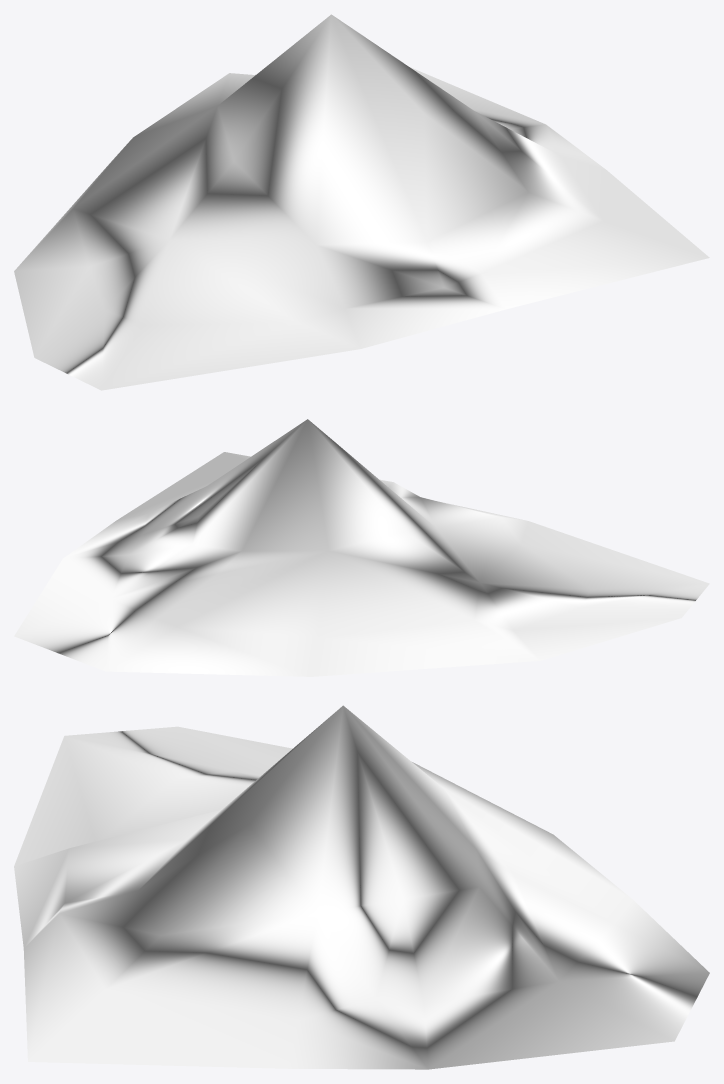
The model's file is SM_Env_SpiderWeb_06.fbx.
3 views of the same model, one above another, from view 1: azimuth 30°, elevation 25°; view 2: azimuth 150°, elevation 25°; view 3: azimuth 270°, elevation 25° (orthographic). The views are drawn at different scales.
Parts seen in each view (by area): view 1: SM_Env_SpiderWeb_06; view 2: SM_Env_SpiderWeb_06; view 3: SM_Env_SpiderWeb_06.
Part boxes in pixels (x1,y1,x2,y2): SM_Env_SpiderWeb_06: [14, 14, 709, 390]; SM_Env_SpiderWeb_06: [14, 419, 709, 676]; SM_Env_SpiderWeb_06: [14, 705, 709, 1069].
Size of the model in its own units: 670 by 205 by 575.
